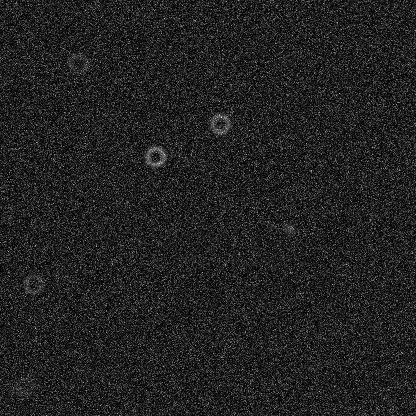Ring: (21, 271, 45, 295), (12, 374, 36, 398), (208, 111, 232, 135), (66, 51, 90, 75), (143, 144, 167, 168)
Spot: (281, 220, 297, 236)
